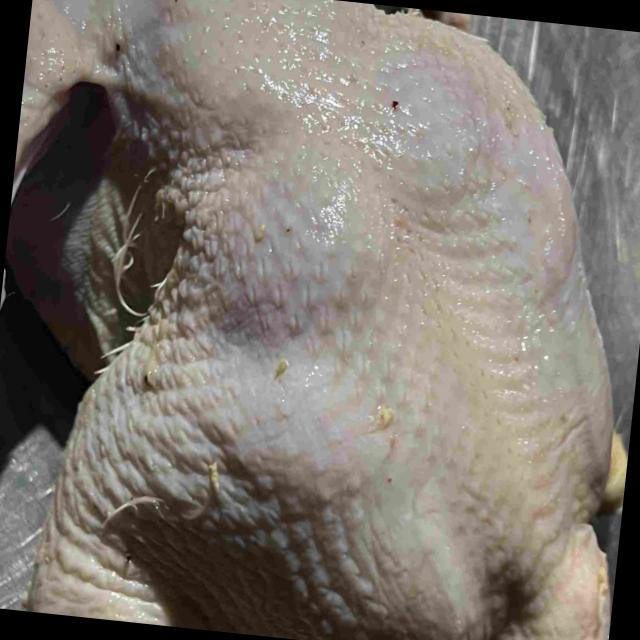back: (163, 12, 611, 640)
leg: (27, 346, 350, 640)
wing: (4, 0, 134, 268)
